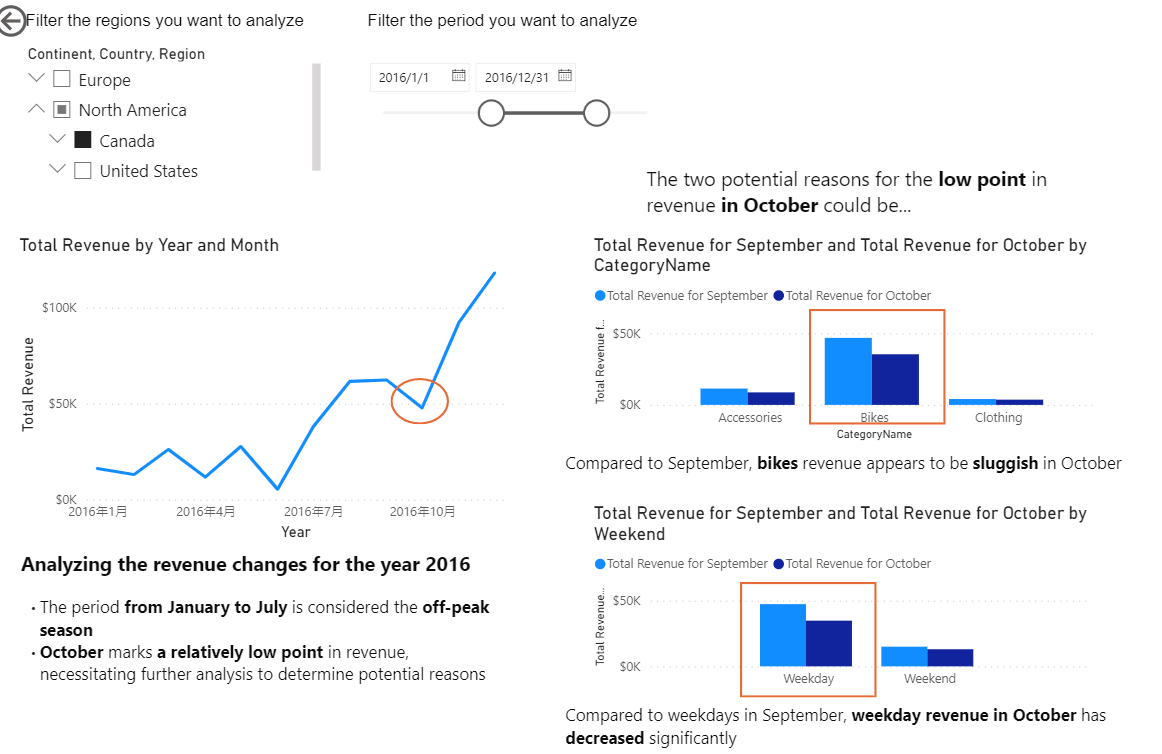

The page's visual inventory and layout, read from the dashboard file:
{"tool":"powerbi","page":{"name":"Revenue_ByYear","canvas":[1280,720],"ordinal":3},"visuals":[{"type":"lineChart","fields":{"Y":["AW_Sales_Data.Total Revenue"],"Category":["AW_Calendar_Lookup.Date.Variation.Date Hierarchy.Year","AW_Calendar_Lookup.Date.Variation.Date Hierarchy.Month","AW_Calendar_Lookup.Date.Variation.Date Hierarchy.Day"]},"box":[22.9,222.9,494.3,295.7],"z":0},{"type":"slicer","fields":{"Values":["AW_Calendar_Lookup.Date"]},"box":[348.6,50,300,84.3],"z":1},{"type":"clusteredColumnChart","fields":{"Category":["AW_Product_Category_Lookup.CategoryName"],"Y":["FilteredEval(AW_Sales_Data.Total Revenue, [{Condition(expr)}])","FilteredEval(AW_Sales_Data.Total Revenue, [{Condition(expr)}])1"]},"box":[570,222.9,490,201.4],"z":1},{"type":"clusteredColumnChart","fields":{"Category":["AW_Calendar_Lookup.Weekend"],"Y":["FilteredEval(AW_Sales_Data.Total Revenue, [{Condition(expr)}])","FilteredEval(AW_Sales_Data.Total Revenue, [{Condition(expr)}])1"]},"box":[570,478.6,480,185.7],"z":1},{"type":"textbox","box":[22.9,0,297.1,37.1],"z":2},{"type":"textbox","box":[348.6,0,281.4,37.1],"z":3},{"type":"actionButton","box":[0,0,100,40],"z":4},{"type":"slicer","fields":{"Values":["AW_Territories_Lookup.Territory Hierarchy.Continent","AW_Territories_Lookup.Territory Hierarchy.Country","AW_Territories_Lookup.Territory Hierarchy.Region"]},"box":[22.9,37.1,297.1,150],"z":5},{"type":"shape","box":[381.4,360,55.7,44.3],"z":6},{"type":"textbox","box":[24.3,518.6,465.7,162.9],"z":7},{"type":"textbox","box":[620,151.4,411.4,71.4],"z":8},{"type":"shape","box":[780,294.3,130,110],"z":9},{"type":"textbox","box":[542.9,424.3,564.3,35.7],"z":10},{"type":"shape","box":[714.3,554.3,130,110],"z":11},{"type":"textbox","box":[542.9,664.3,554.3,55.7],"z":12}]}

Visuals, with their boxes on the page's 1280x720 design canvas (x1, y1, x2, y2). These are canvas units, not pixel positions in the 1162x754 screenshot, which may show the page scaled, cropped or inside an application window:
lineChart - AW_Sales_Data.Total Revenue x AW_Calendar_Lookup.Date.Variation.Date Hierarchy.Year: detection(23, 223, 517, 519)
slicer - AW_Calendar_Lookup.Date: detection(349, 50, 649, 134)
clusteredColumnChart - AW_Product_Category_Lookup.CategoryName x FilteredEval(AW_Sales_Data.Total Revenue, [{Condition(expr)}]): detection(570, 223, 1060, 424)
clusteredColumnChart - AW_Calendar_Lookup.Weekend x FilteredEval(AW_Sales_Data.Total Revenue, [{Condition(expr)}]): detection(570, 479, 1050, 664)
textbox: detection(23, 0, 320, 37)
textbox: detection(349, 0, 630, 37)
actionButton: detection(0, 0, 100, 40)
slicer - AW_Territories_Lookup.Territory Hierarchy.Continent x AW_Territories_Lookup.Territory Hierarchy.Country: detection(23, 37, 320, 187)
shape: detection(381, 360, 437, 404)
textbox: detection(24, 519, 490, 682)
textbox: detection(620, 151, 1031, 223)
shape: detection(780, 294, 910, 404)
textbox: detection(543, 424, 1107, 460)
shape: detection(714, 554, 844, 664)
textbox: detection(543, 664, 1097, 720)
